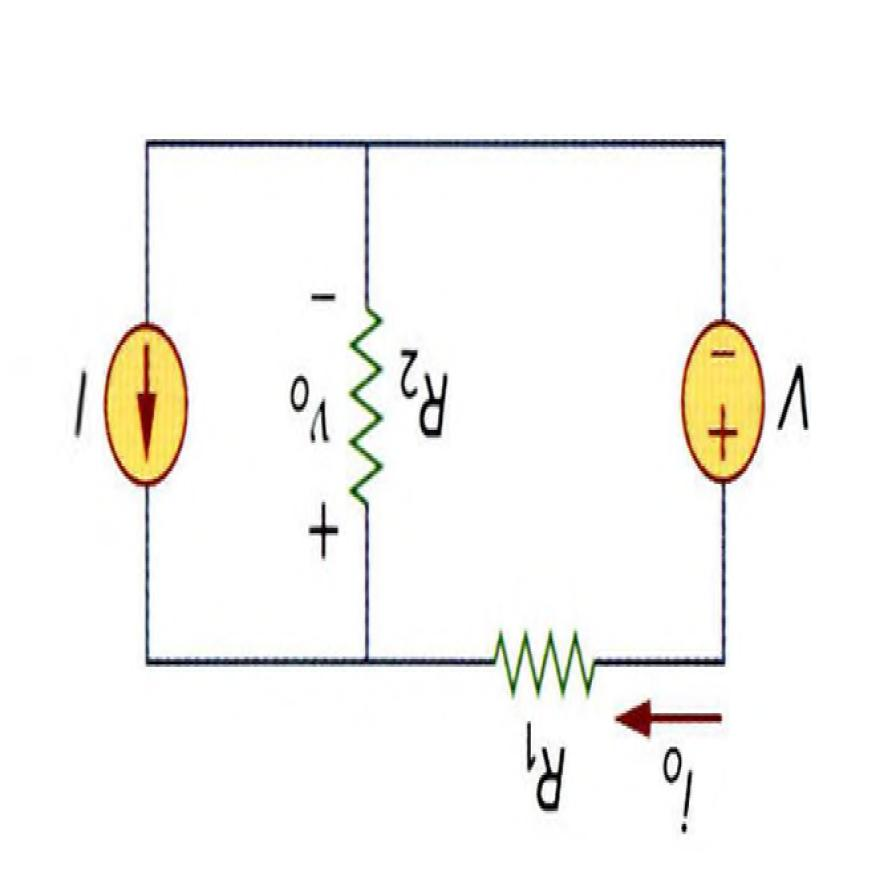I3: (106, 322, 188, 481)
V3: (682, 324, 764, 484)
